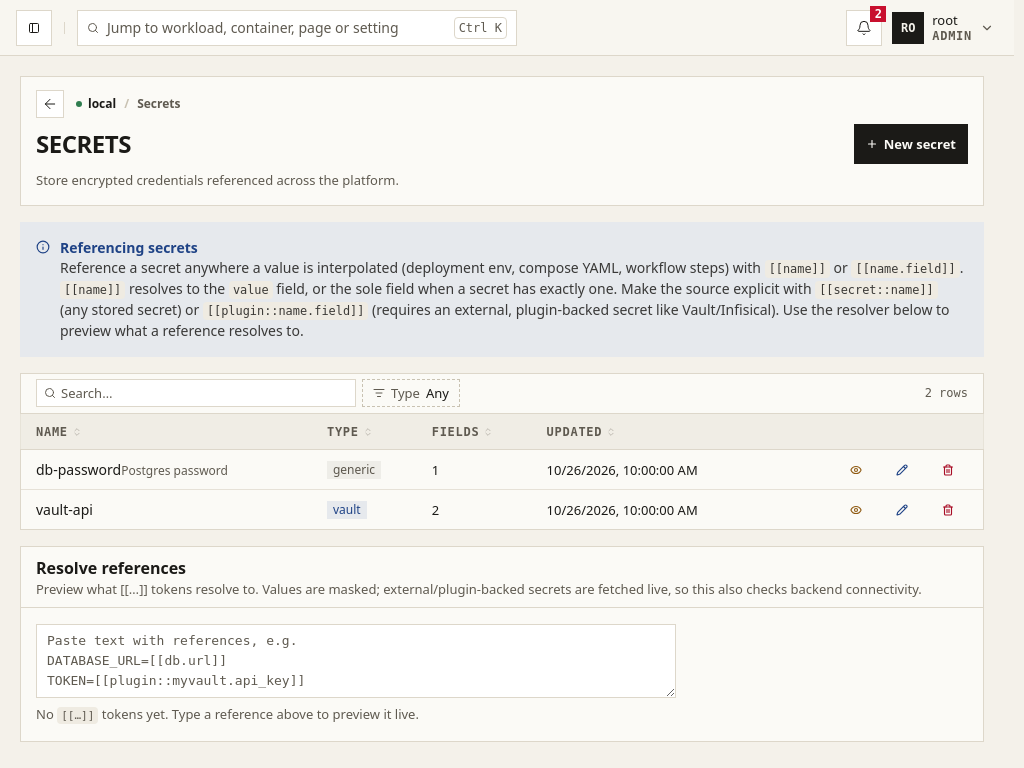
Scenario: secrets page › edits a secret keeping blank values
The width and height of the screenshot is (1024, 768).
Step 1. Click the button named "Edit db-password" → x=902, y=470, box [882, 450, 922, 490]
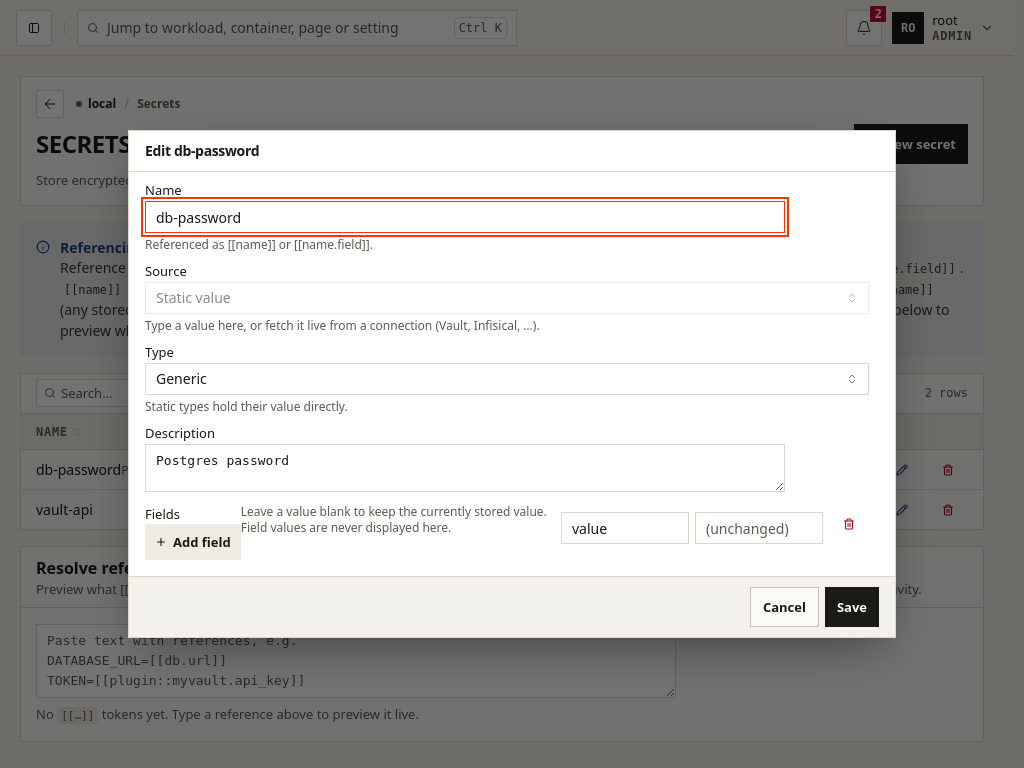
Expected: the field labelled "Name" holds "db-password", [145, 201, 785, 233]
Step 2. Replace the text in the text box labelled "Description" with "rotated" → x=465, y=468, box [145, 444, 785, 492]
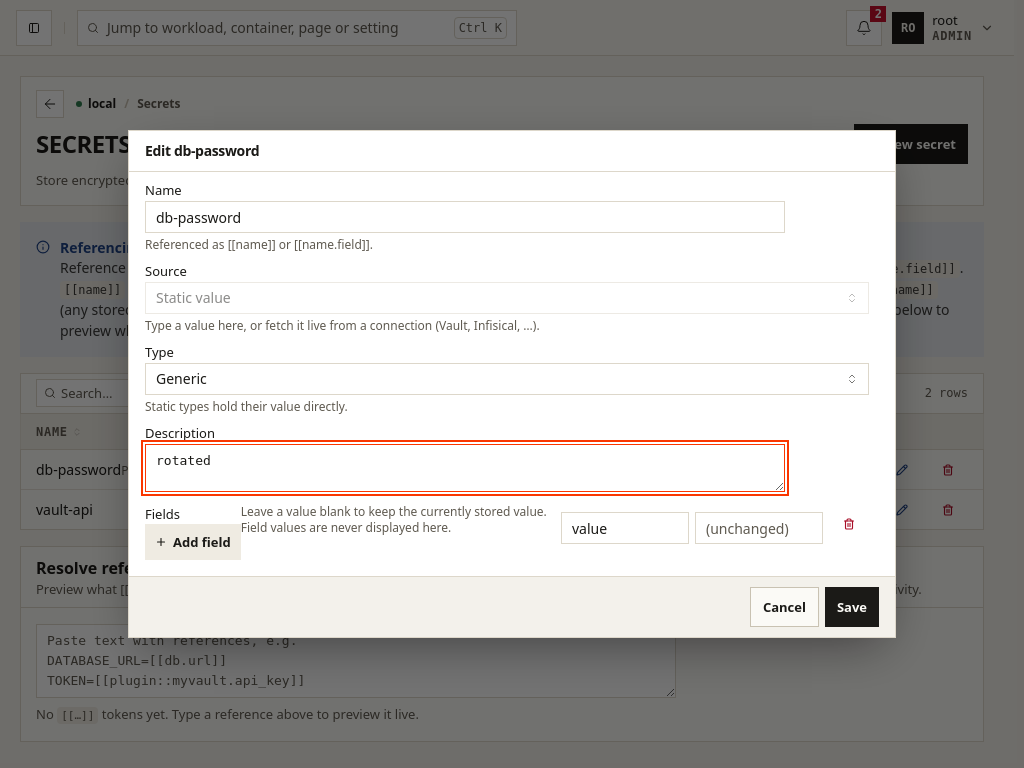
Step 3. Click the button "Save" → x=852, y=607, box [825, 587, 879, 627]
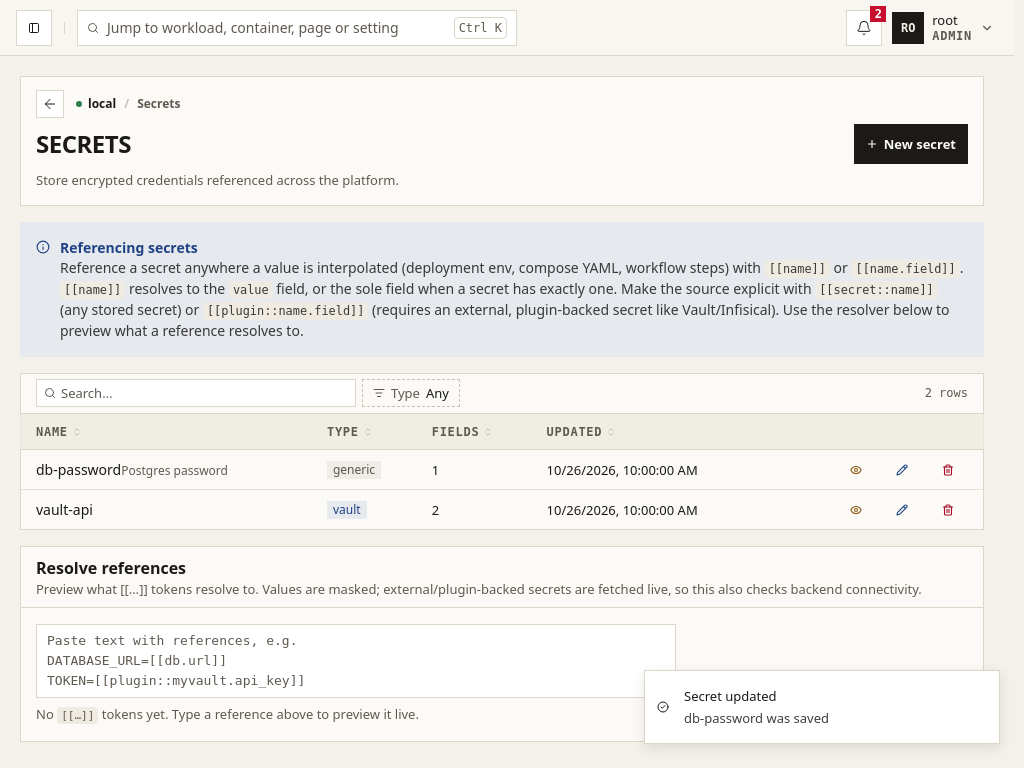
Expected: the text "Secret updated" is shown, [684, 687, 777, 705]
